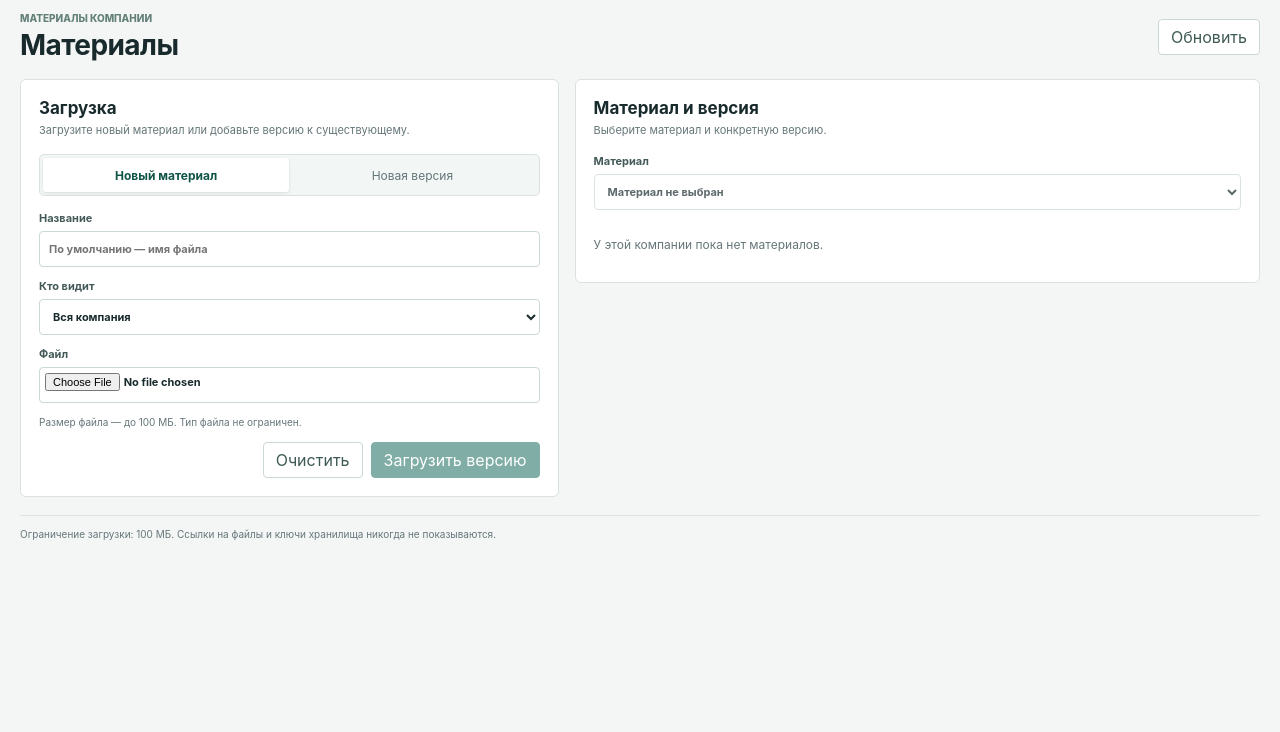
Test: Content operations acceptance surface › shows company asset loading, empty, safe error, and refresh retry states
Later steps or results of the test are not shown.
Click the button "Обновить".
click(1209, 37)  # box [1158,19,1260,55]
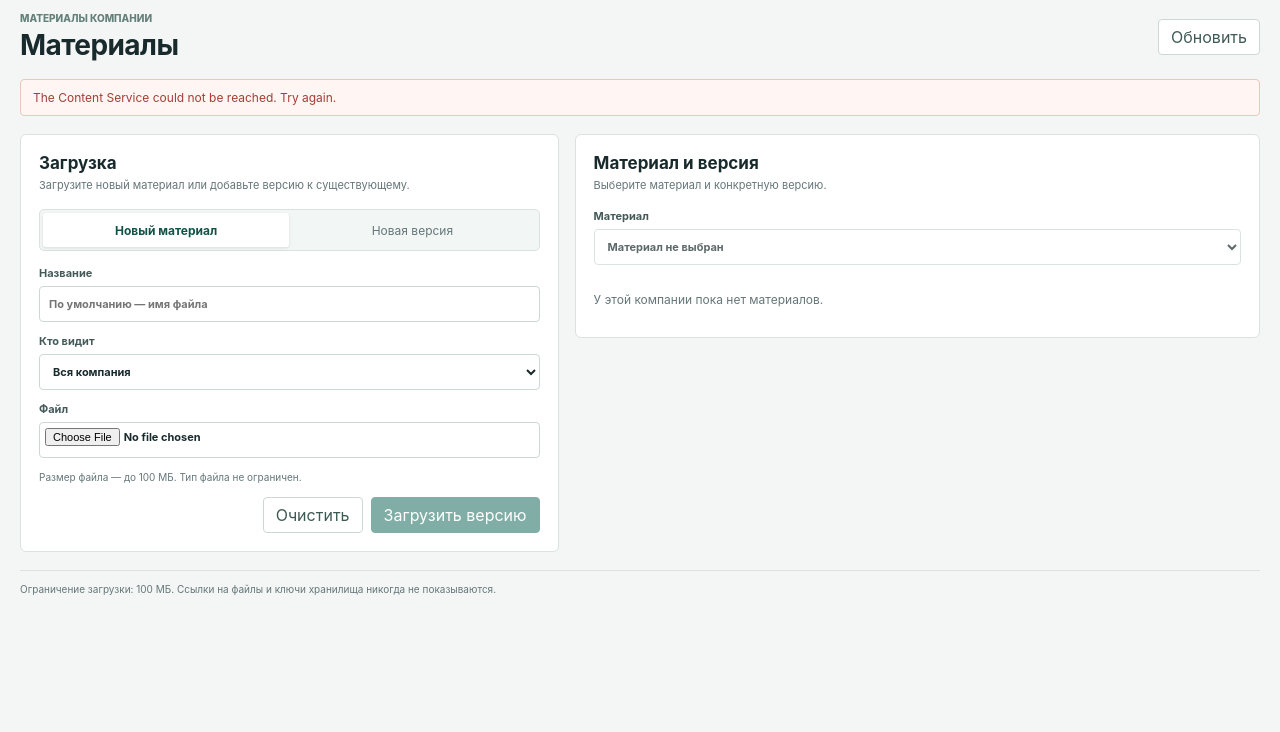
Now the message "The Content Service could not be reached. Try again." is shown, box [20,79,1260,116]
